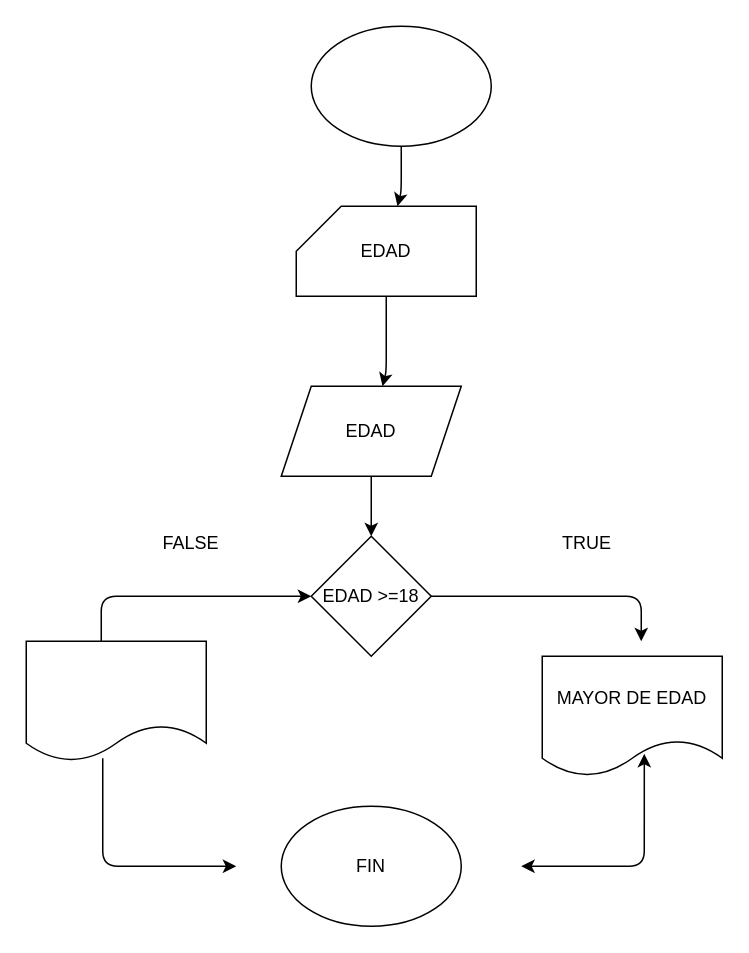
This 749x953 diagram has some shape labels left out. Here are the shapes that lost their labels. From the top down, the centre of each, then its label:
At point (400, 85): "INICIO".
At point (115, 700): "MNOR DE EDAD".
